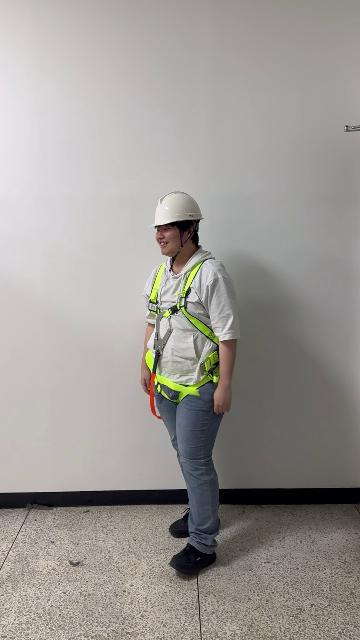helmet_worn: (148, 190, 205, 228)
shoe_not_worn: (169, 542, 216, 575), (168, 510, 190, 537)
vest_worn: (143, 259, 221, 403)
